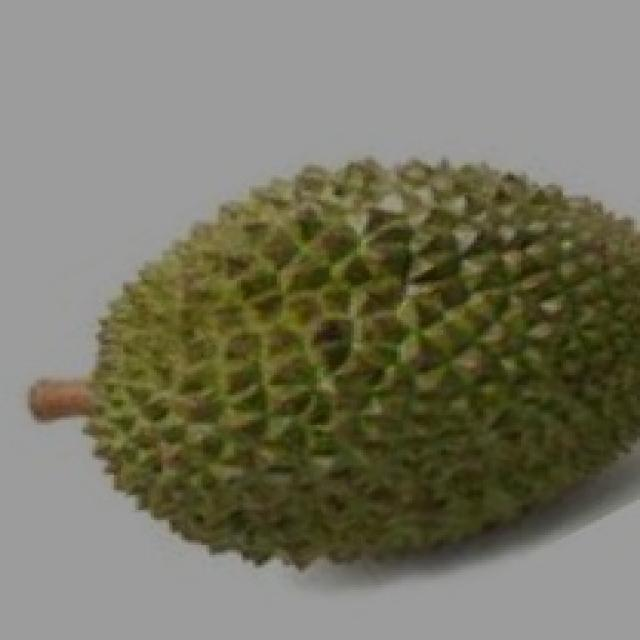fruit: (249, 212, 640, 628), (22, 222, 369, 608)
